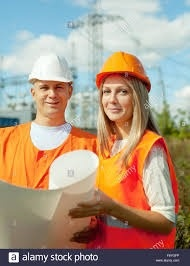helmet: (93, 48, 156, 95), (25, 50, 78, 88)
person with full safety: (90, 49, 177, 250), (2, 50, 96, 185)
safety vest: (93, 135, 173, 244), (10, 123, 85, 196)
